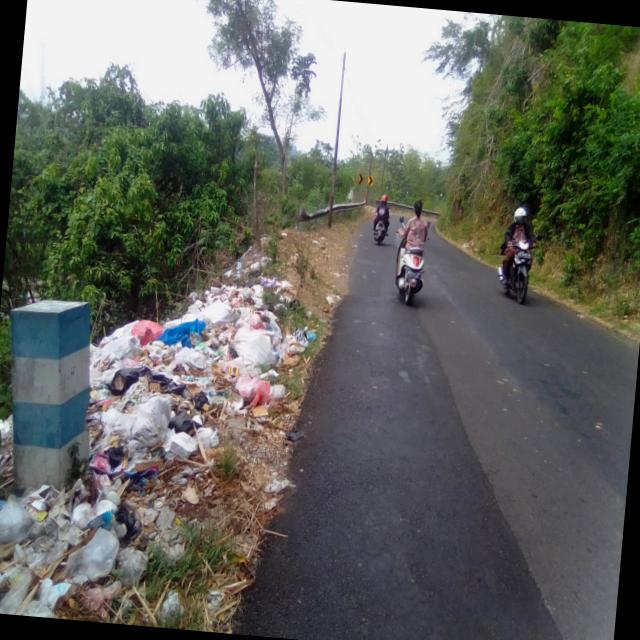garbage: (0, 263, 295, 636)
